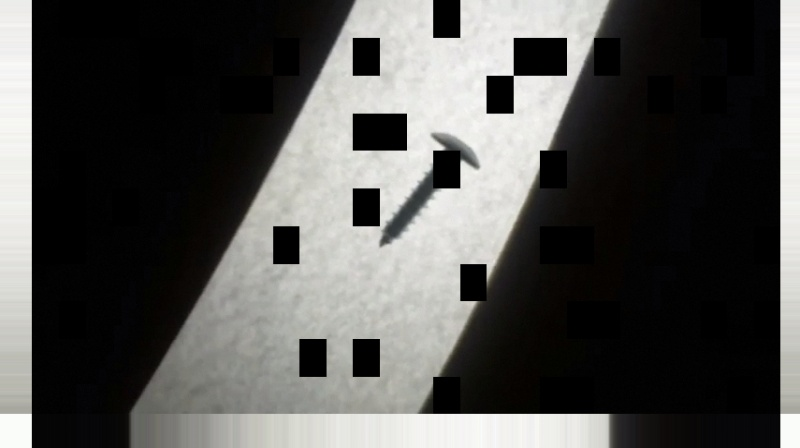S003: (373, 127, 485, 252)
